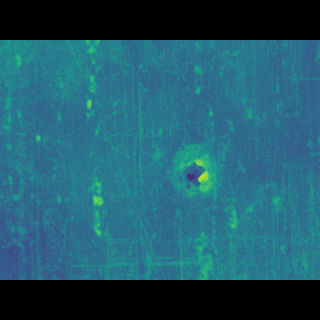Loch: (173, 154, 217, 184)
